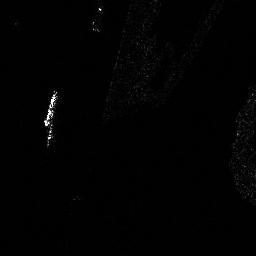ship: (43, 88, 58, 127)
